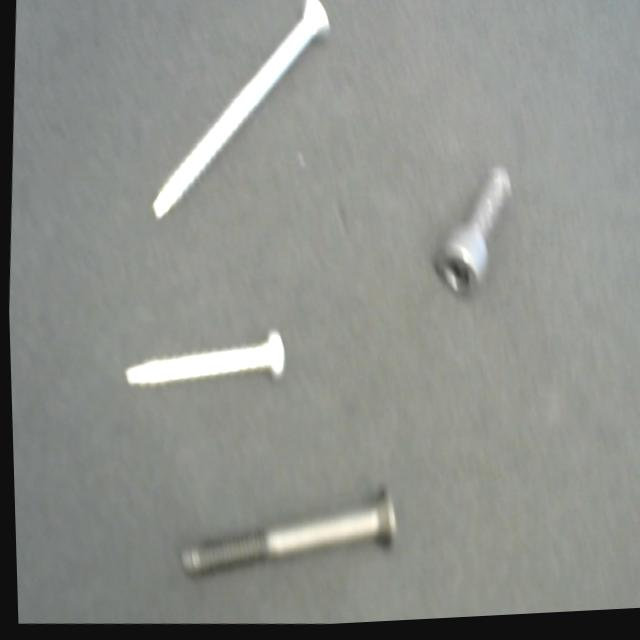FlatHeadSocketScrew: (164, 471, 405, 607)
SheetMetalScrew: (117, 314, 293, 414)
SocketHeadCapScrew: (425, 159, 516, 318)
WoodScrew: (141, 0, 344, 233)
